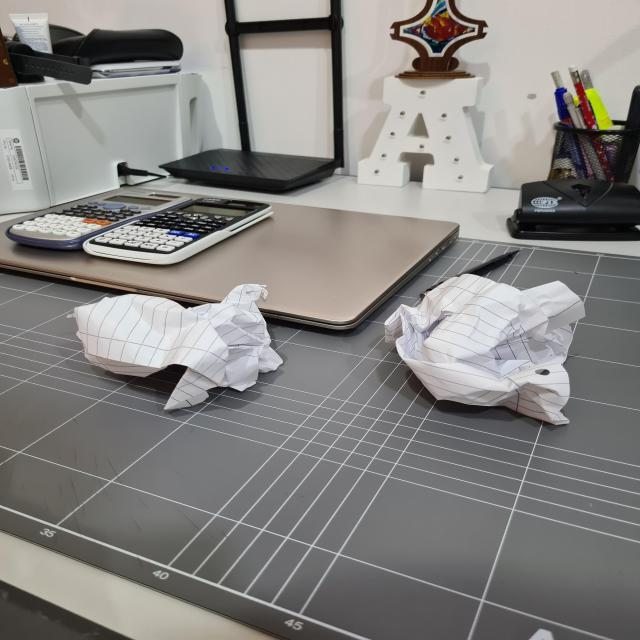cardboard paper: (0, 239, 638, 638), (384, 273, 583, 423), (73, 283, 281, 408)
